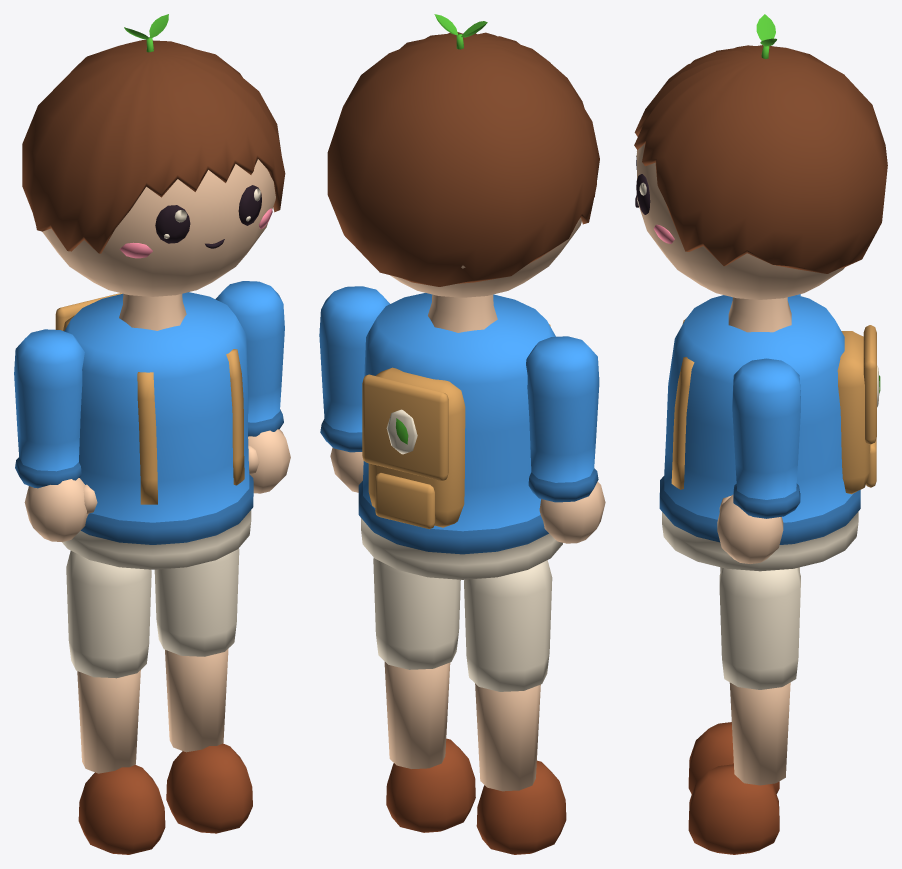
Rendered from hero-teen.glb.
3 renders of one model, left to right at view 1: azimuth 30°, elevation 25°; view 2: azimuth 150°, elevation 25°; view 3: azimuth 270°, elevation 25°, orthographic. The views are drawn at different scales.
Parts seen in each view (by area): view 1: head, body, leg-left, leg-right, arm-left, arm-right; view 2: head, body, leg-left, leg-right, arm-left, arm-right, head-leaf; view 3: head, body, leg-right, arm-right, leg-left, head-leaf.
Boxes of the visible parts, x1,y1,x2,y2 form: head: (22,40,285,330); body: (55,292,253,569); leg-left: (66,551,165,854); leg-right: (154,548,252,833); arm-left: (14,329,97,541); arm-right: (215,281,290,493); head: (327,32,599,332); body: (358,293,562,579); leg-left: (464,560,566,854); leg-right: (373,557,475,832); arm-left: (526,336,605,543); arm-right: (319,286,389,492); head-leaf: (434,14,487,49); head: (634,45,887,332); body: (659,295,880,571); leg-right: (688,567,800,854); arm-right: (717,358,800,563); leg-left: (688,567,799,794); head-leaf: (756,14,776,58).
Size of the model in its own units: 0.8569 by 2.51 by 0.724.
